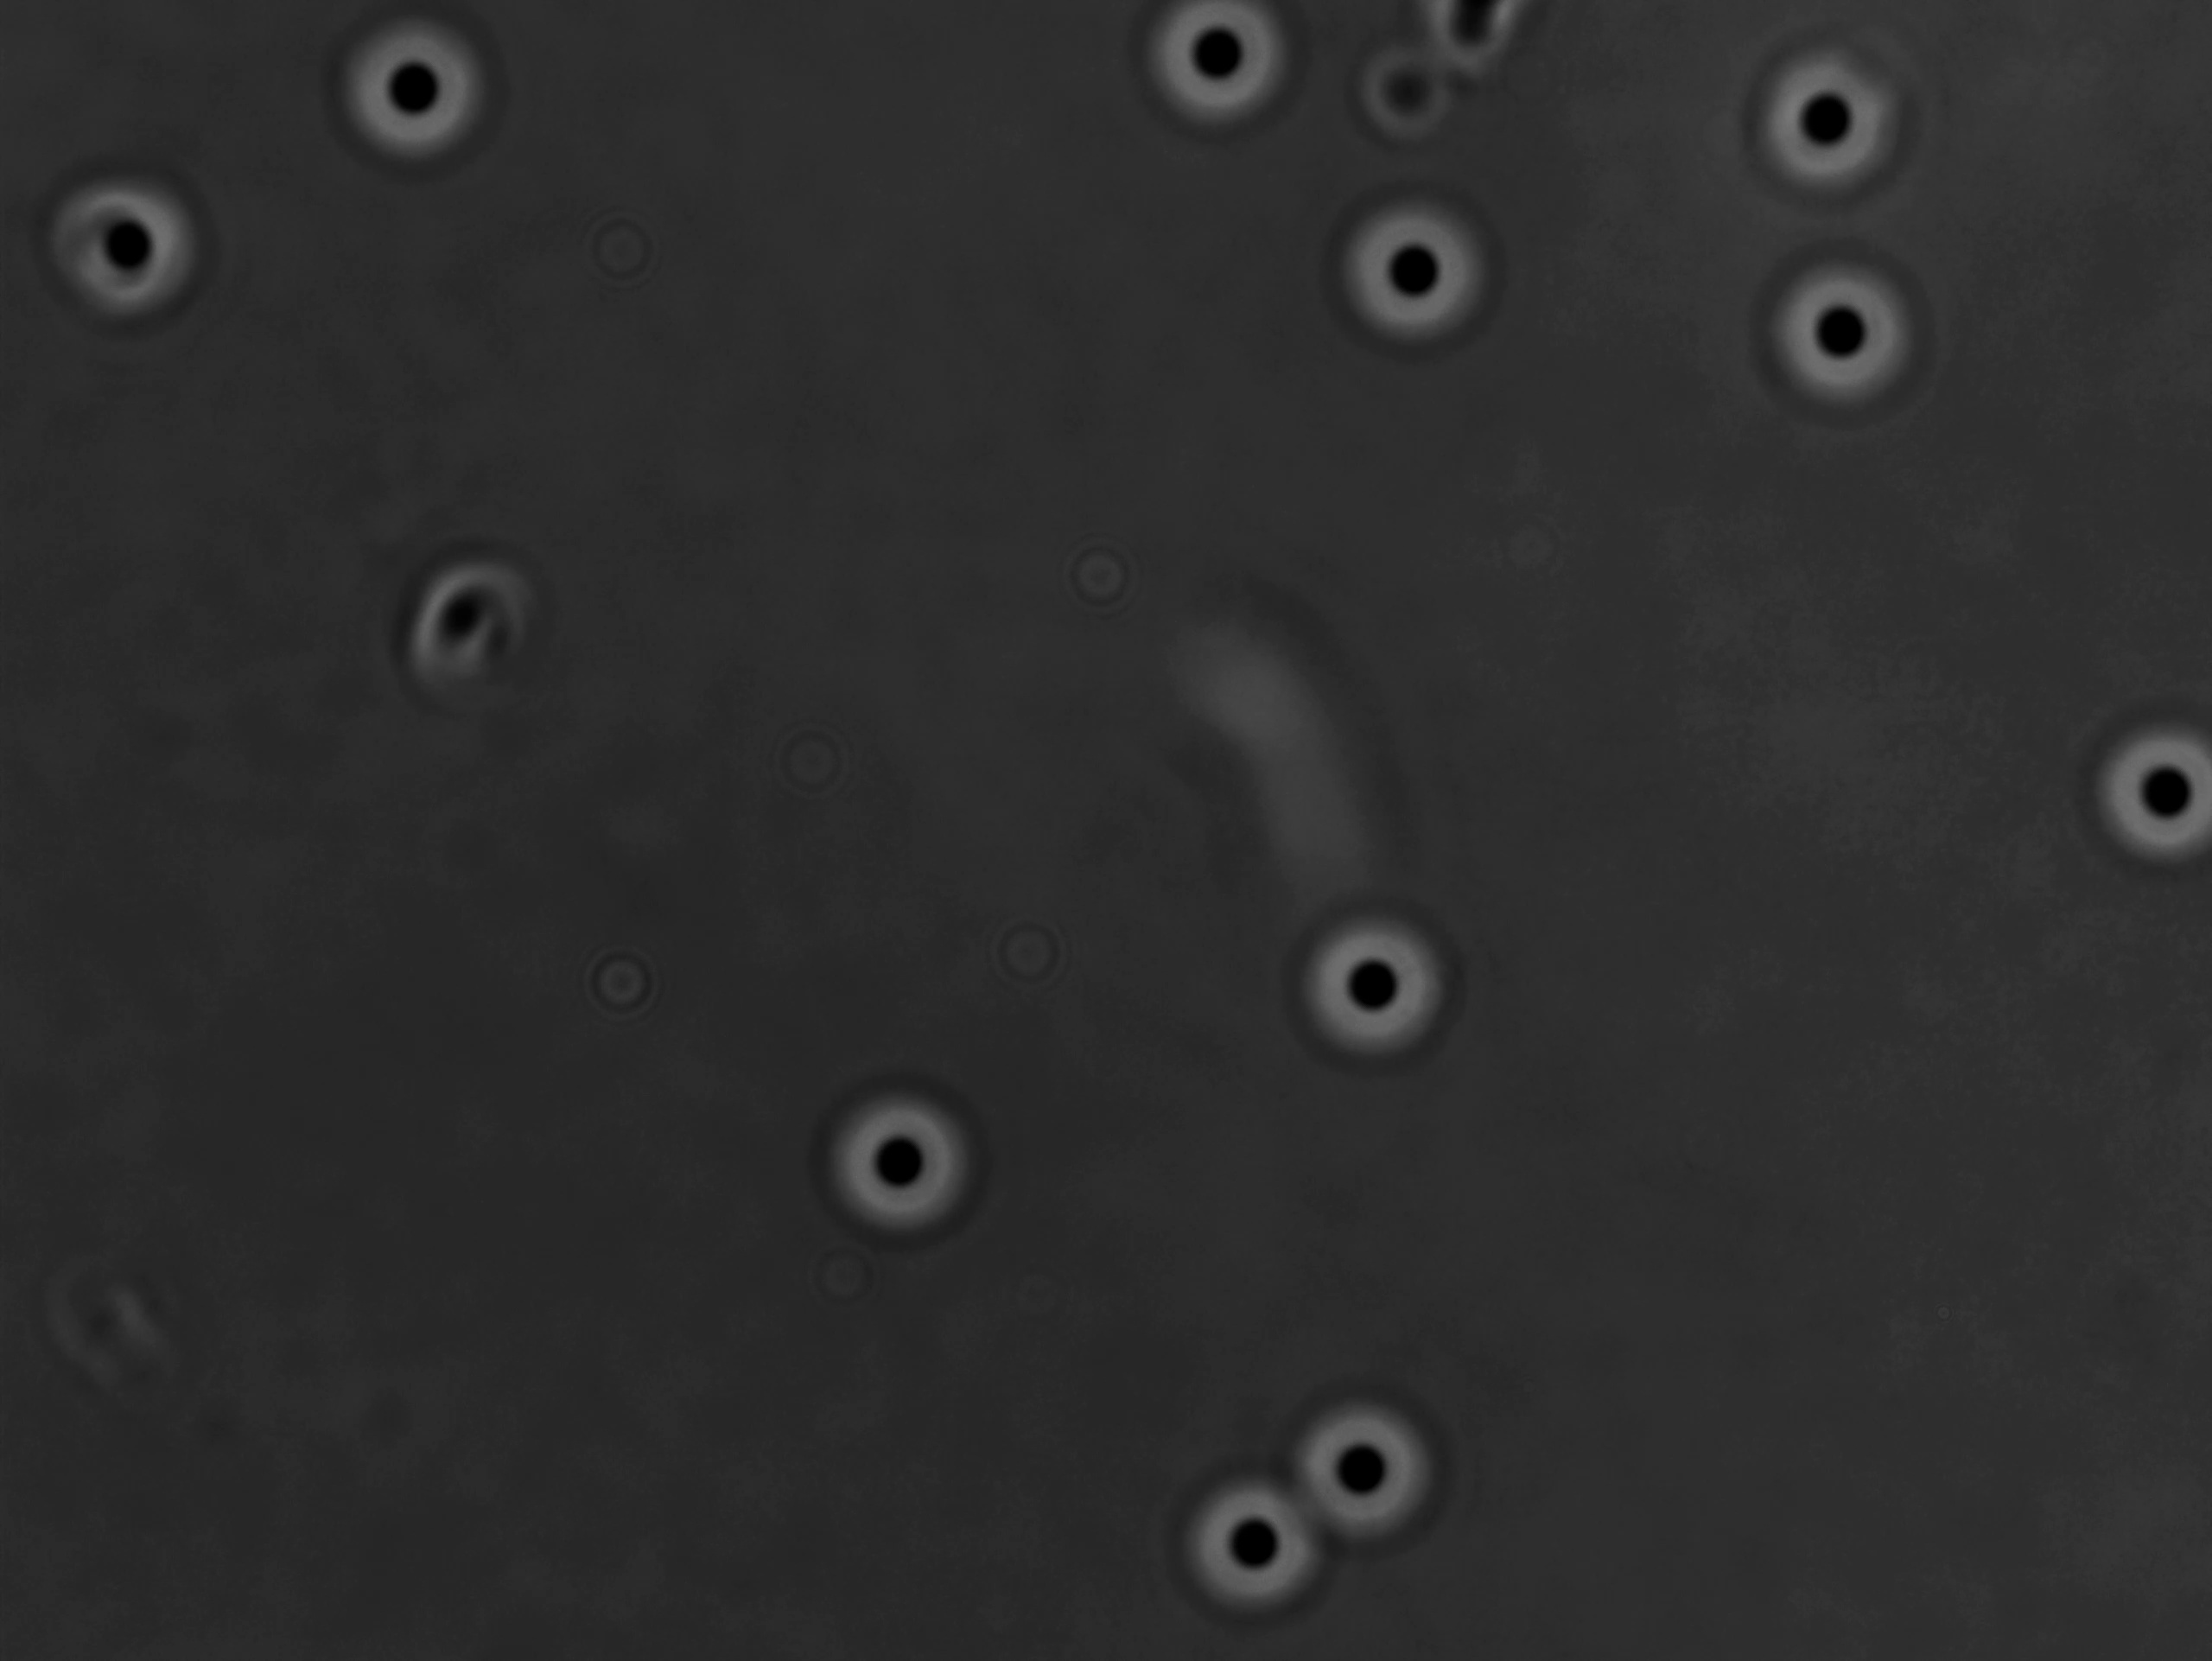depth:-40: (1757, 255, 1931, 420), (1293, 897, 1455, 1068), (816, 1073, 982, 1239), (1286, 1387, 1457, 1546), (1329, 183, 1488, 349), (1169, 1466, 1335, 1623), (2081, 694, 2212, 881), (1750, 45, 1910, 197), (340, 14, 492, 167)
